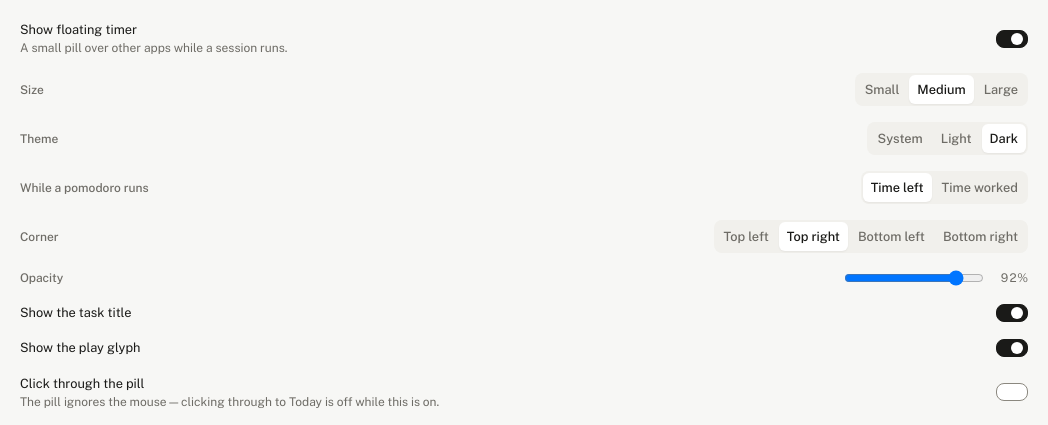
Test: OverlaySettings › makes the both-off state unreachable by disabling the last one on
The image size is (1048, 425).
Check: the switch labelled "Show floating timer" is shown, box [12, 12, 1036, 65]
Check: the switch labelled "Show the task title" is enabled, box [12, 295, 1036, 330]
Click the switch labelled "Show the play glyph" at coordinates (80, 348), box [12, 330, 1036, 366]
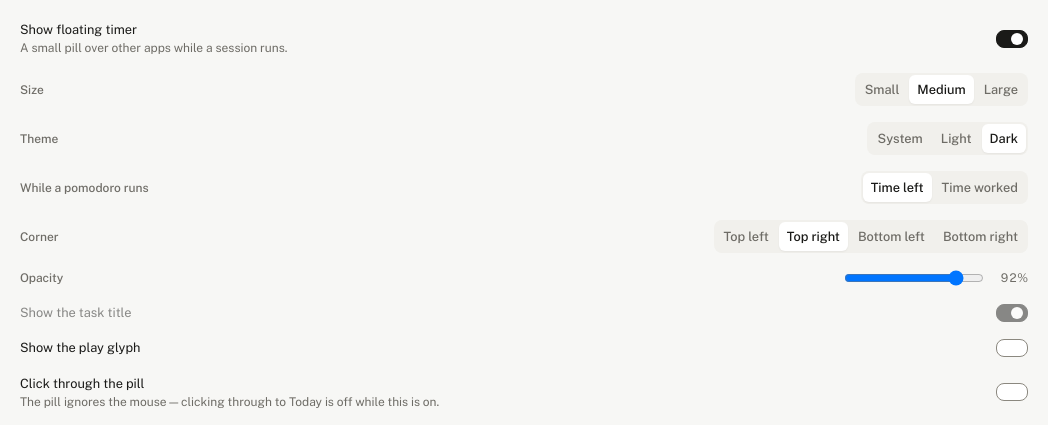
Check: the switch labelled "Show the task title" is disabled, box [12, 295, 1036, 330]
